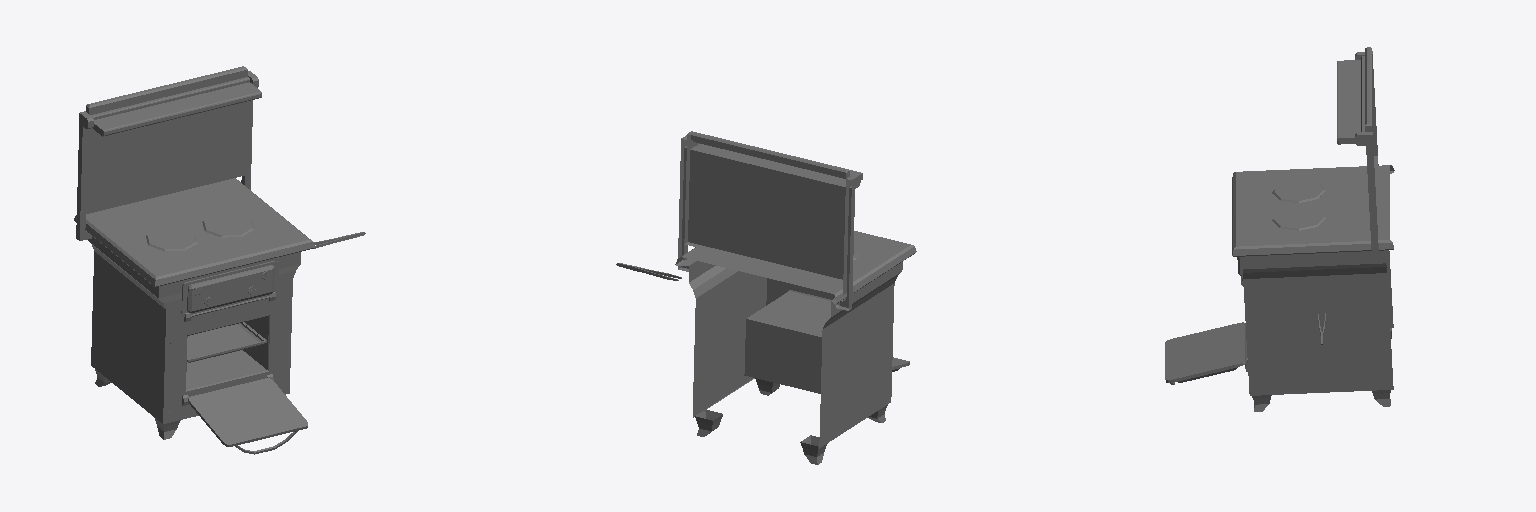
Rendered from Model_OvenTweezer_TEMPORARY_G4_1.obj.
3 views of the same model, side by side, from view 1: azimuth 30°, elevation 25°; view 2: azimuth 150°, elevation 25°; view 3: azimuth 270°, elevation 25° (orthographic).
Parts seen in each view (by area): view 1: Geo_doortophinge1 locator1 OvenROOT, Geo_doortophinge1 locator1 OvenROOT Geo_stovedoorbottom, Geo_doortophinge1 locator1 OvenROOT Geo_tray; view 2: Geo_doortophinge1 locator1 OvenROOT; view 3: Geo_doortophinge1 locator1 OvenROOT, Geo_doortophinge1 locator1 OvenROOT Geo_stovedoorbottom.
Part boxes in pixels (bbox=[...]): Geo_doortophinge1 locator1 OvenROOT: bbox=[74, 66, 314, 439]; Geo_doortophinge1 locator1 OvenROOT Geo_stovedoorbottom: bbox=[188, 378, 307, 454]; Geo_doortophinge1 locator1 OvenROOT Geo_tray: bbox=[187, 323, 265, 362]; Geo_doortophinge1 locator1 OvenROOT: bbox=[675, 131, 916, 464]; Geo_doortophinge1 locator1 OvenROOT: bbox=[1232, 47, 1394, 411]; Geo_doortophinge1 locator1 OvenROOT Geo_stovedoorbottom: bbox=[1165, 322, 1245, 384].
Size of the model in its own units: 145 by 158 by 111.